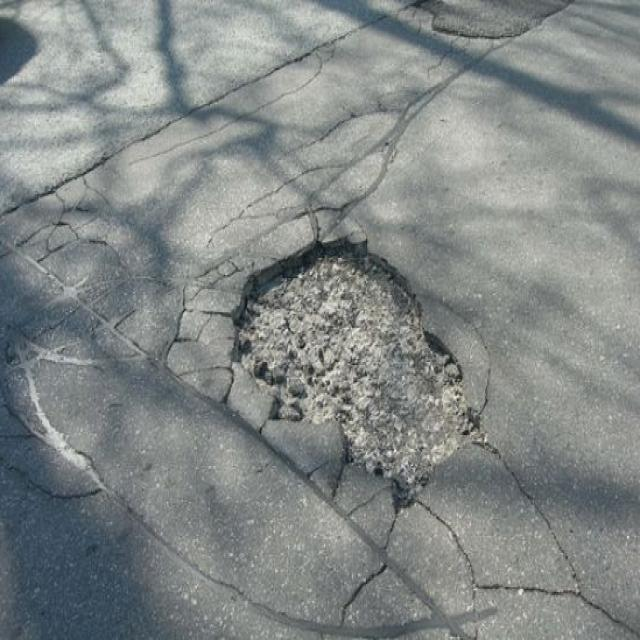pothole: (232, 225, 492, 510)
